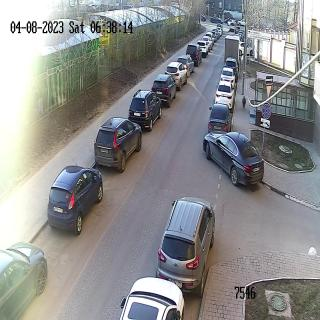dog: (242, 96, 246, 110)
